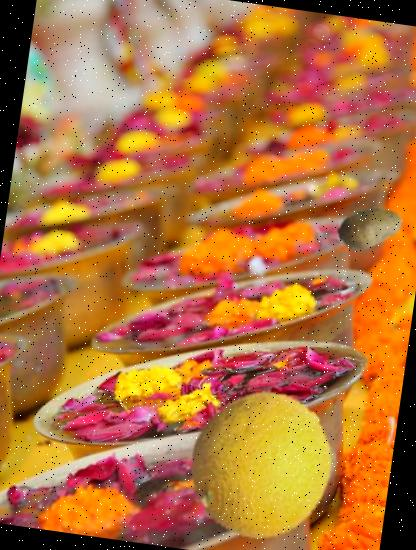Cantaloupe: (178, 382, 346, 549)
Potato: (332, 190, 407, 264)
